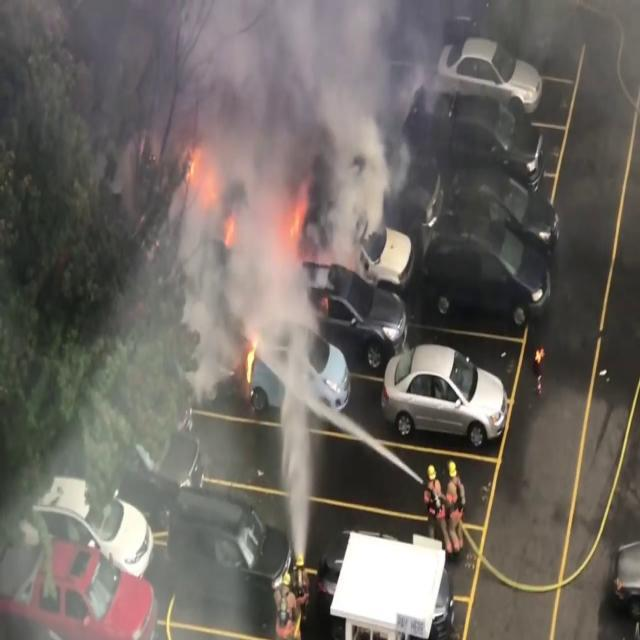Fire: (243, 335, 260, 393)
Smoke: (13, 0, 394, 374)
